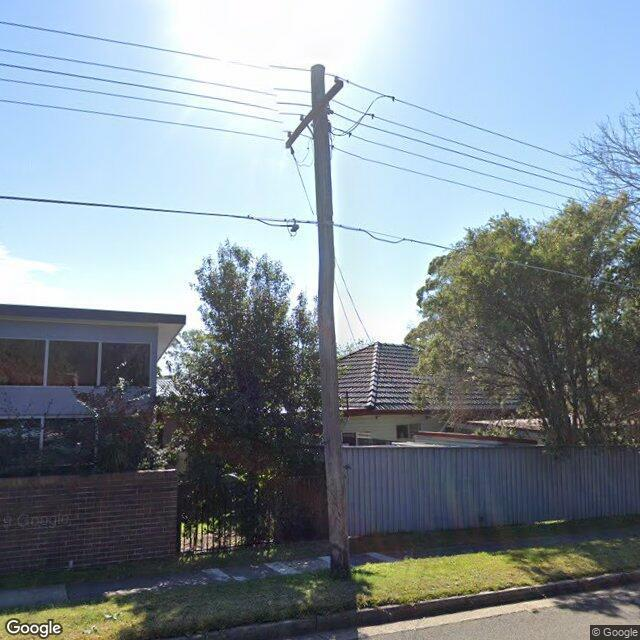crossarm: (286, 80, 343, 149)
timber-pole: (311, 65, 352, 580)
